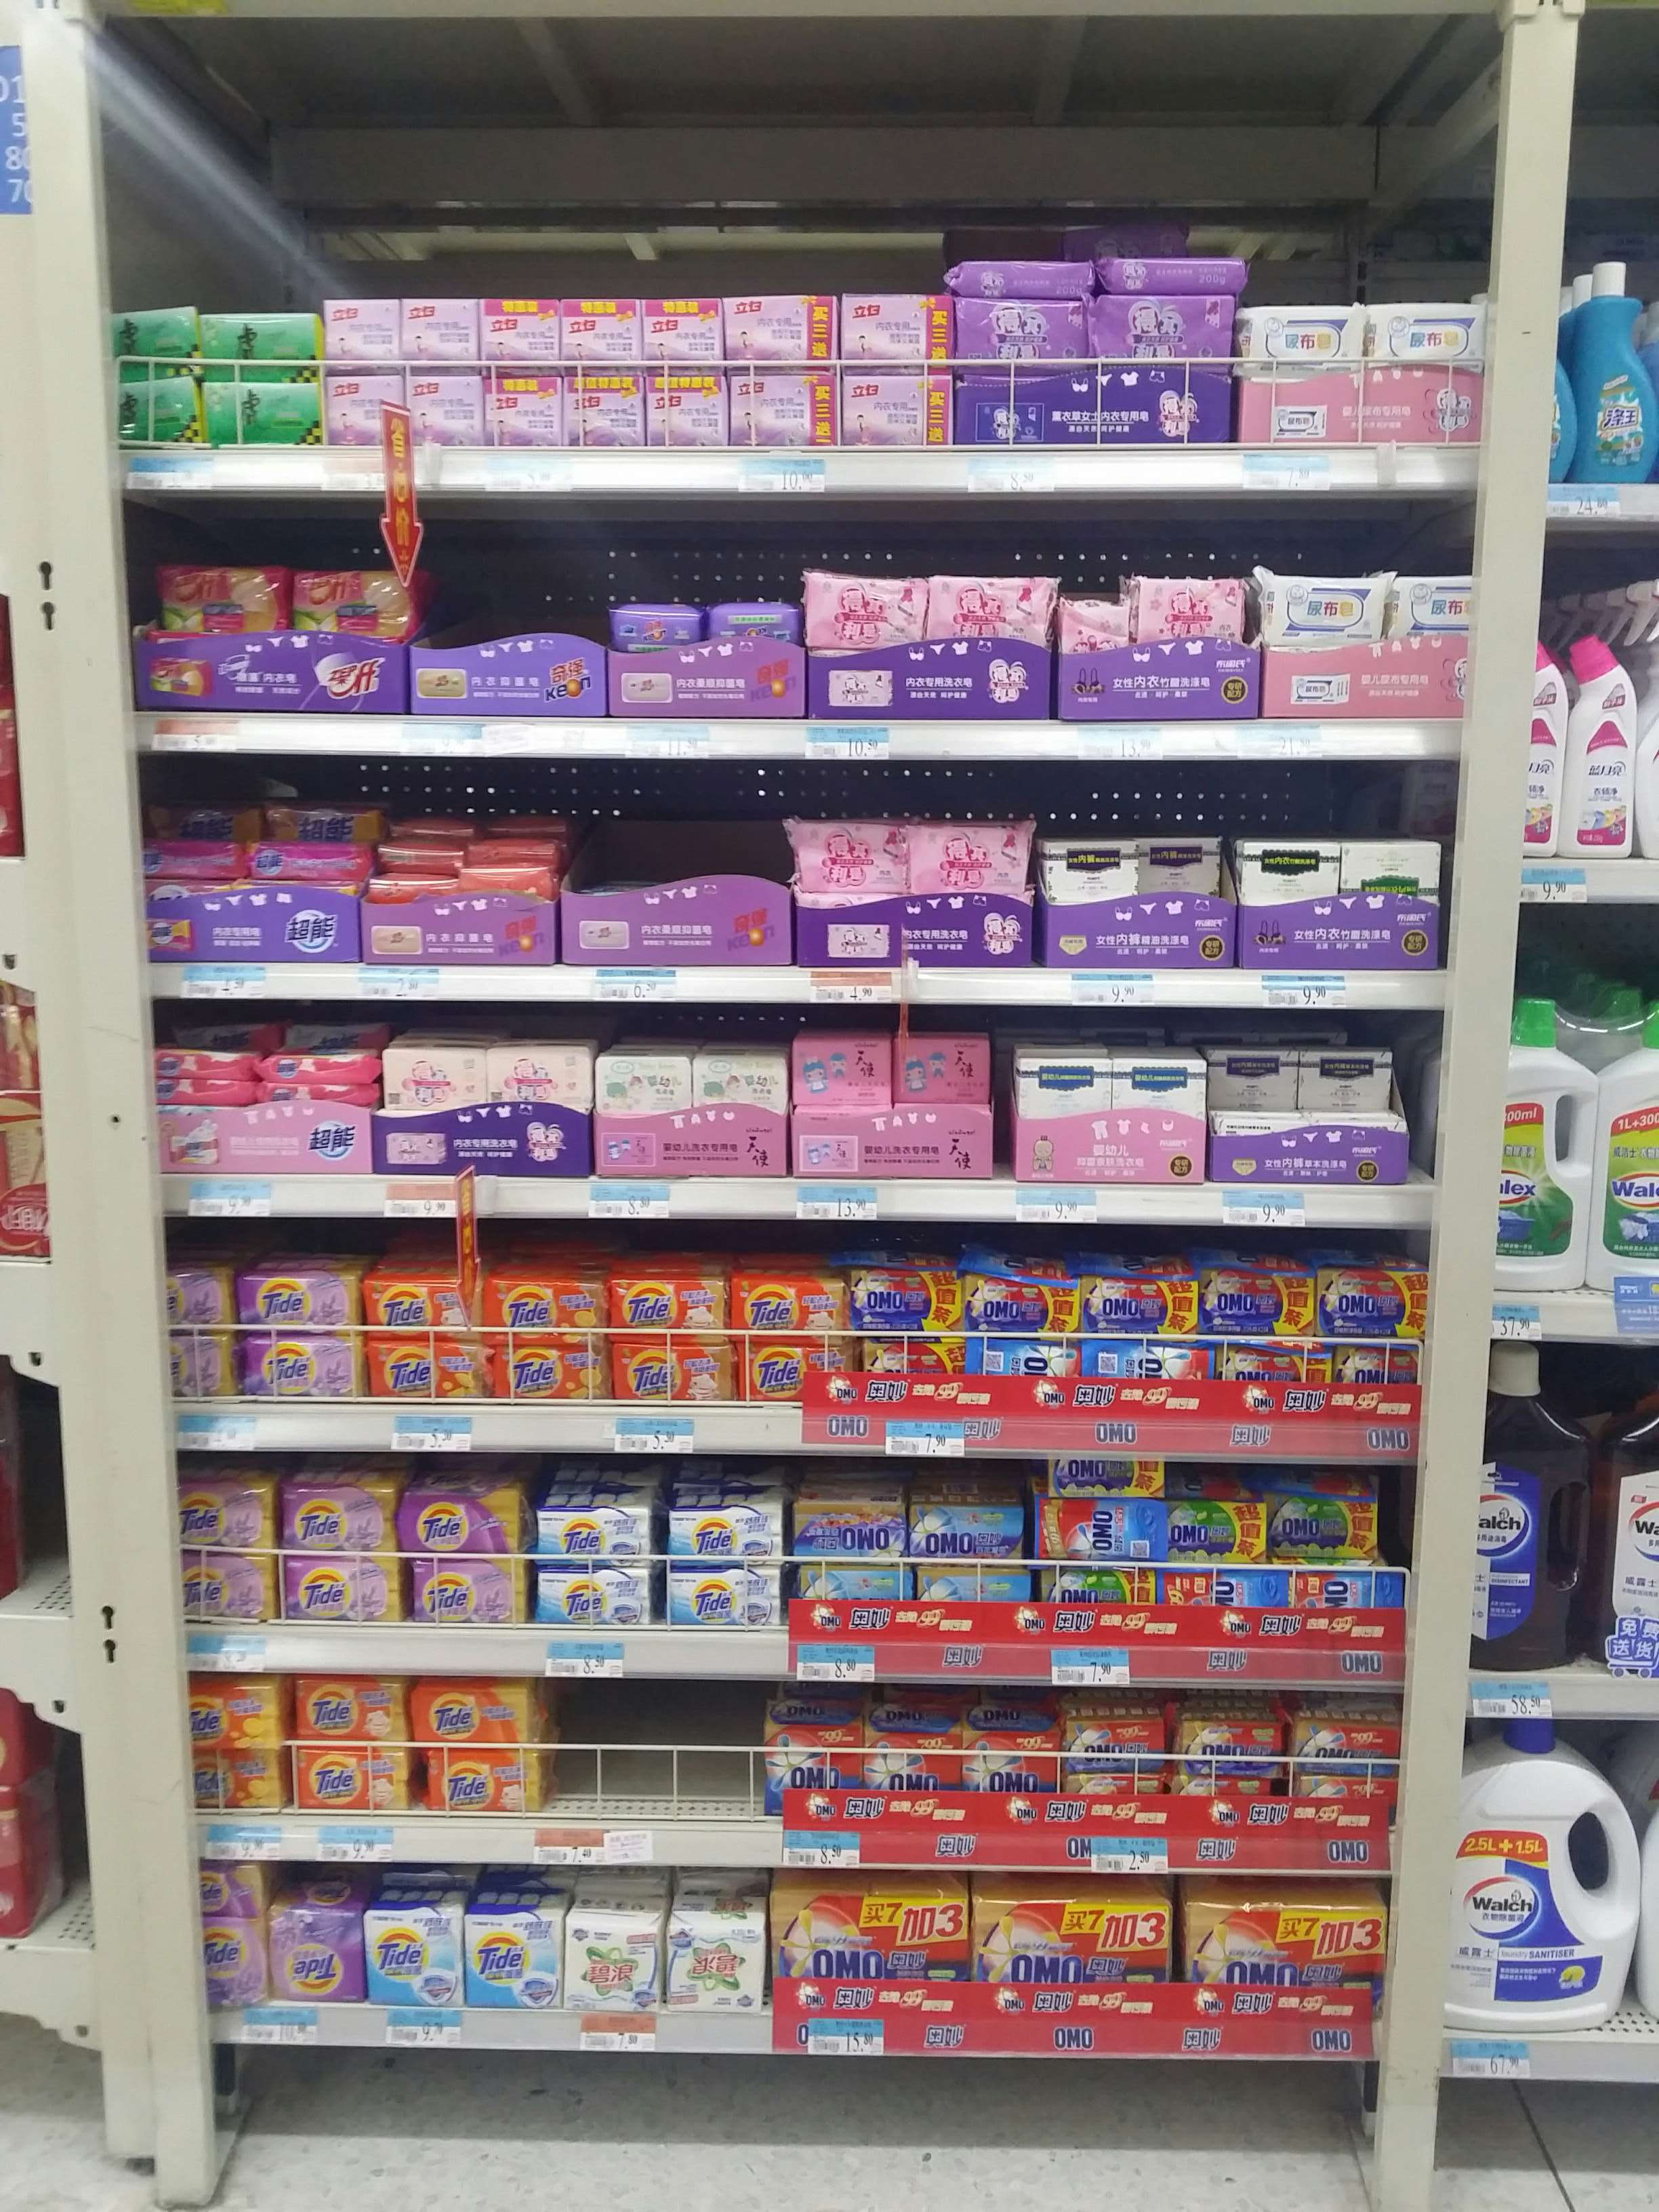product: (1459, 1716, 1642, 2017), (1488, 1339, 1593, 1674), (1506, 979, 1598, 1289), (772, 1888, 969, 2020), (972, 1892, 1169, 2020), (1180, 1898, 1385, 2017), (1570, 254, 1659, 479), (1601, 996, 1659, 1282), (1570, 639, 1640, 857), (1605, 1355, 1650, 1667), (864, 1712, 962, 1836), (1255, 564, 1382, 653), (965, 1716, 1061, 1831), (929, 575, 1058, 660), (1321, 1252, 1439, 1338), (162, 559, 293, 634), (772, 1709, 861, 1818), (807, 568, 925, 650), (1202, 1254, 1317, 1338), (1094, 300, 1232, 369), (1037, 1498, 1166, 1571), (960, 296, 1087, 369), (281, 1480, 399, 1559), (1129, 573, 1249, 650), (789, 810, 906, 888), (1384, 568, 1495, 650), (479, 1273, 605, 1345), (840, 293, 957, 369), (1079, 1259, 1197, 1334), (568, 1916, 659, 2013), (965, 1258, 1080, 1334), (1082, 1336, 1215, 1402), (911, 819, 1023, 897), (467, 1914, 559, 2008), (362, 1914, 460, 2003), (727, 294, 836, 373), (1371, 300, 1492, 371), (1222, 1345, 1333, 1421), (666, 1923, 760, 2012), (410, 1681, 535, 1747), (401, 1487, 526, 1554), (1016, 1052, 1112, 1137), (295, 566, 406, 639), (411, 1559, 525, 1630), (1162, 1573, 1288, 1637), (296, 1747, 415, 1815), (610, 1273, 728, 1341), (270, 1909, 357, 2001), (1527, 639, 1563, 859), (1241, 308, 1364, 373), (1274, 1487, 1385, 1559), (200, 315, 319, 381), (362, 1275, 479, 1341), (854, 1268, 962, 1339), (1291, 1573, 1401, 1642), (796, 1498, 908, 1566), (295, 1676, 408, 1742), (1114, 1055, 1204, 1137), (732, 1275, 843, 1341), (843, 376, 951, 444), (239, 1275, 359, 1336), (538, 1503, 655, 1566), (662, 1507, 784, 1566), (200, 385, 319, 446), (1061, 597, 1133, 698), (911, 1498, 1026, 1561), (174, 1480, 272, 1554), (613, 1345, 734, 1404), (1180, 1710, 1284, 1778), (286, 1562, 399, 1625), (965, 1336, 1080, 1397), (188, 1676, 284, 1749), (1042, 1573, 1157, 1634), (1338, 1341, 1424, 1423), (1291, 1709, 1396, 1775), (732, 376, 836, 442), (535, 1569, 652, 1629), (430, 1750, 544, 1811), (918, 1564, 1028, 1627), (1342, 838, 1443, 906), (244, 1339, 357, 1399), (479, 293, 561, 374), (484, 1049, 594, 1109), (798, 1569, 913, 1627), (178, 1557, 274, 1625), (896, 1035, 988, 1104), (645, 296, 725, 376), (1173, 1503, 1269, 1569), (1244, 841, 1342, 906), (197, 1914, 265, 2006), (383, 1049, 486, 1109), (1140, 833, 1227, 904), (667, 1573, 779, 1629), (366, 1345, 481, 1399), (488, 1346, 603, 1400), (1044, 838, 1140, 902), (737, 1345, 849, 1399), (563, 296, 641, 373), (559, 373, 638, 448), (1066, 1709, 1162, 1770), (1066, 1770, 1162, 1831), (596, 1055, 692, 1116), (1302, 1045, 1392, 1109), (1295, 1780, 1396, 1838), (113, 308, 199, 376), (795, 1040, 887, 1103), (403, 296, 476, 374), (694, 1054, 784, 1116), (1101, 254, 1249, 293), (1209, 1045, 1295, 1111), (326, 296, 401, 371), (193, 1750, 282, 1813), (1175, 1780, 1274, 1836), (606, 599, 706, 653), (864, 1345, 960, 1400), (647, 376, 725, 444), (1051, 1451, 1168, 1496), (406, 376, 481, 446), (483, 376, 559, 444), (117, 383, 199, 446), (261, 796, 378, 840), (326, 380, 403, 446), (162, 1268, 235, 1334), (249, 841, 366, 881), (957, 260, 1093, 293), (708, 599, 800, 646), (143, 841, 244, 881), (169, 1336, 235, 1397), (148, 798, 253, 836), (193, 1857, 265, 1912), (258, 1080, 371, 1108), (157, 1045, 251, 1078), (371, 873, 457, 907), (462, 867, 549, 900), (153, 1076, 254, 1104), (254, 1055, 368, 1080), (380, 838, 464, 869), (469, 841, 558, 866)
